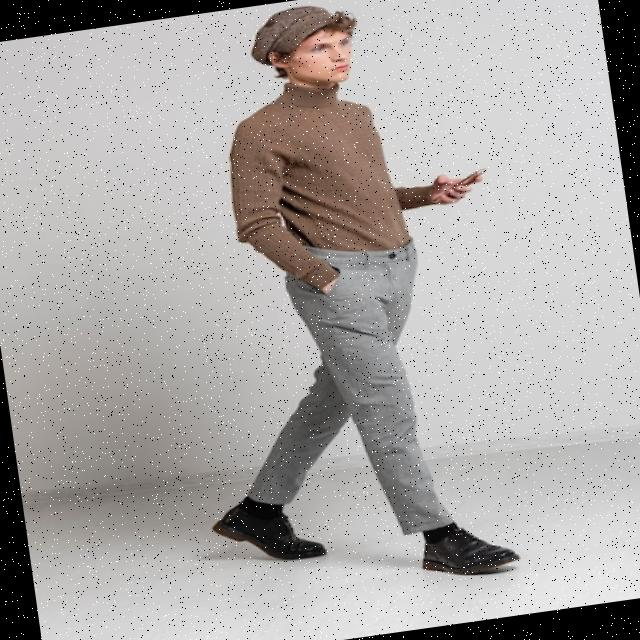Person: (145, 0, 543, 607)
